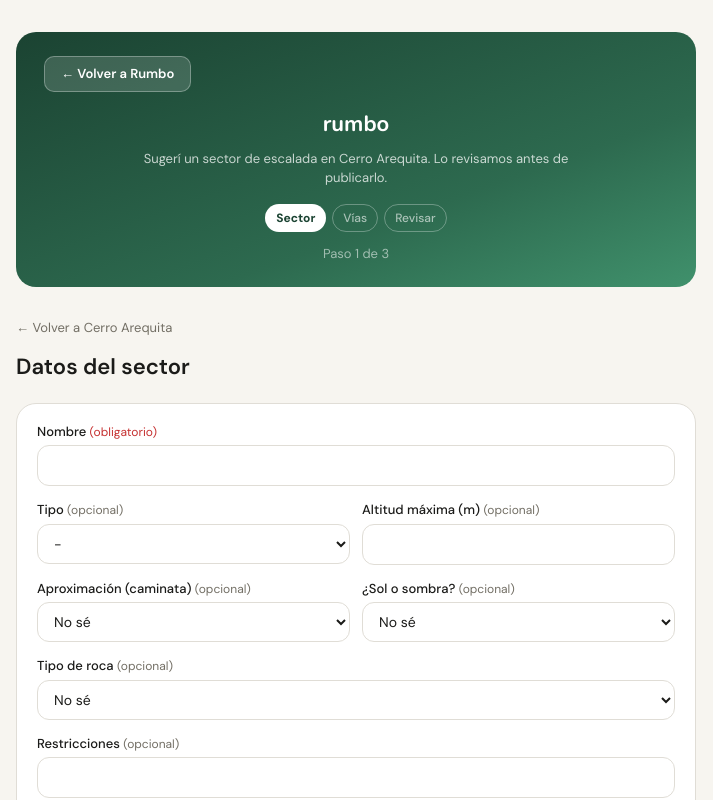
Test case: AgregarLugar: indicador de pasos › muestra los pasos con nombre y marca el actual
This screenshot has width=713, height=800.
Expected: the heading "Datos del sector" is shown, [16,352,190,380]
Expected: the list named "Pasos" reads "Sector Vías Revisar", [265,204,447,232]
Type "Placa Sur" into the field named "Nombre del sector".
click(356, 466); type("Placa Sur")  # box [37,445,675,486]
(page scrolled)
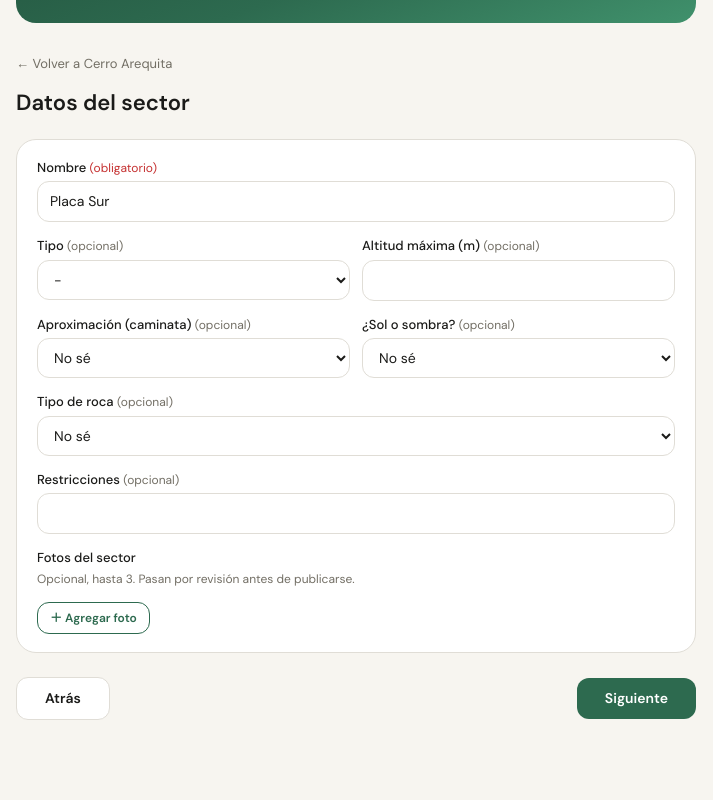
Click the button "Siguiente".
click(636, 698)  # box [577,678,696,718]
(page scrolled)
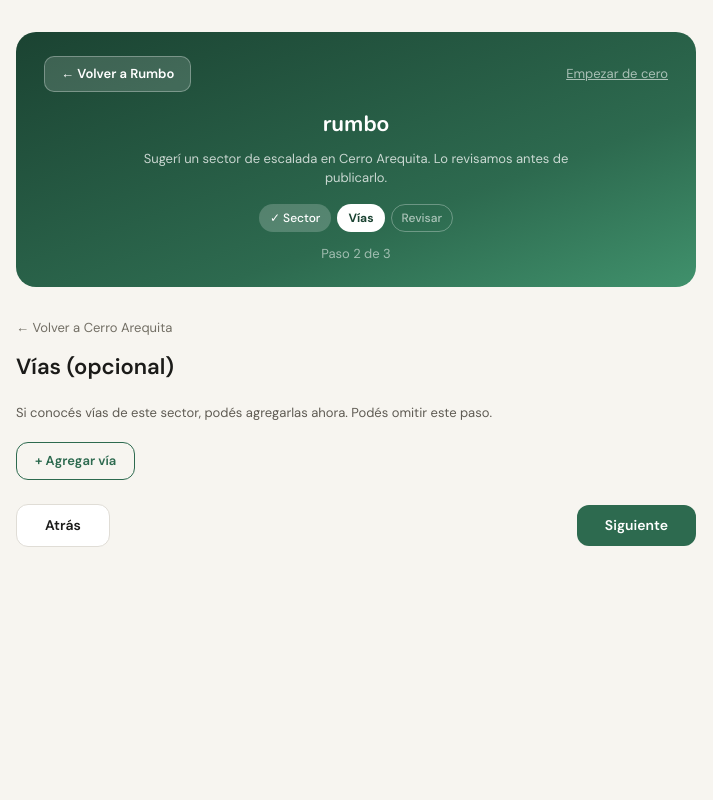
Expected: the list item "Vías" is shown, [337,204,384,232]
Now the list named "Pasos" shows "✓ Sector", box [259,204,453,232]
